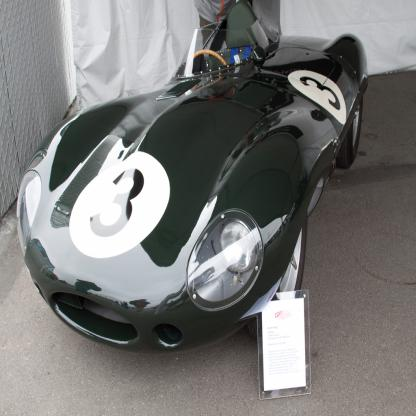Car: (17, 0, 368, 355)
